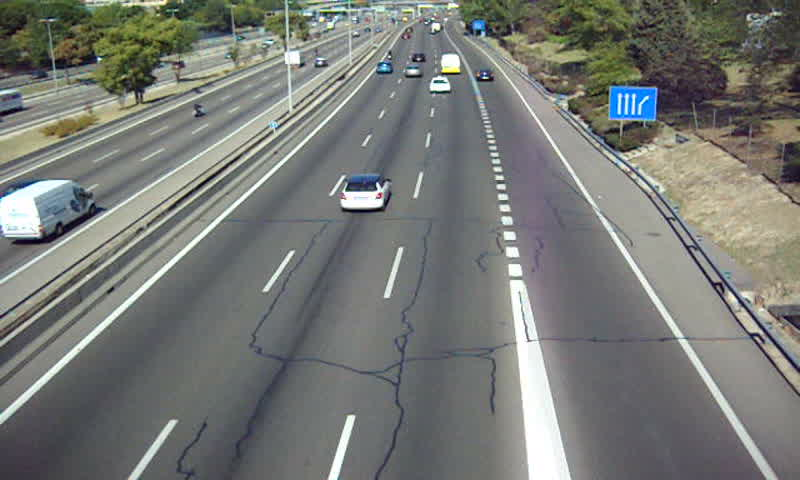car: (341, 174, 389, 210), (428, 78, 452, 94), (374, 62, 393, 76), (474, 70, 494, 83)
van: (440, 54, 461, 73)
